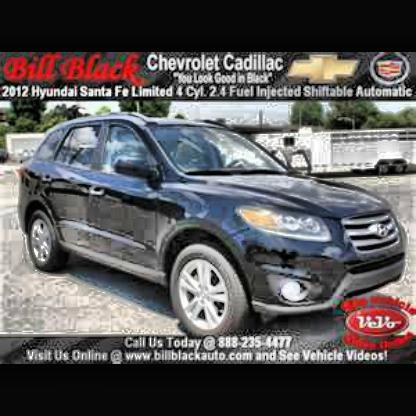Hyundai Santa Fe SUV 2012: (22, 117, 403, 340)
